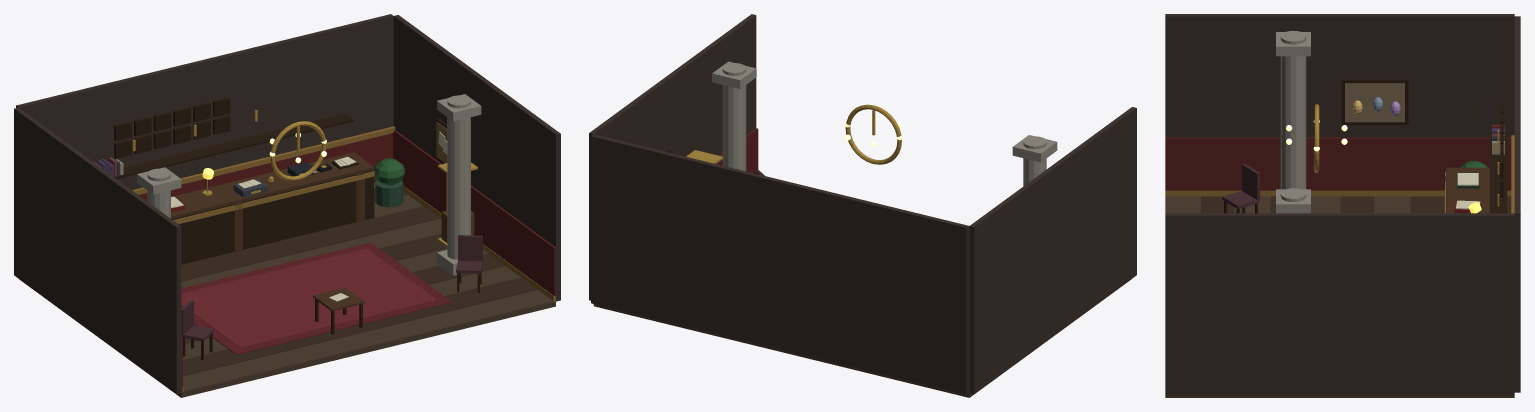
The model's file is lobby.glb.
The picture shows the model from 3 angles, left to right: view 1: azimuth 30°, elevation 25°; view 2: azimuth 150°, elevation 25°; view 3: azimuth 270°, elevation 25°; orthographic projection. The views are drawn at different scales.
Parts seen in each view (by area): view 1: WallBack, WallLeft, WallRight, RugInner, DeskFront, BandRight, Plank0, Plank7, Plank1, Rug, Column1, DeskTop (+20 smaller); view 2: WallBack, WallLeft, WallRight, Column1, Floor, ChandRing, Column0, ColumnCap0, ColumnCap1, BandRight; view 3: WallRight, WallLeft, BandLeft, Column0, WallBack, GalaPrint, SkirtLeft, DeskTop, Floor, DeskBackShelf, GalaFrame, Plank5 (+10 smaller).
Boxes of the visible parts, x1,y1,x2,y2 form: WallBack: [16, 14, 393, 189]; WallLeft: [14, 107, 181, 393]; WallRight: [393, 15, 560, 301]; RugInner: [181, 248, 436, 347]; DeskFront: [172, 170, 374, 264]; BandRight: [393, 130, 555, 296]; Plank0: [183, 290, 553, 391]; Plank7: [181, 206, 439, 281]; Plank1: [183, 278, 537, 376]; Rug: [181, 242, 451, 354]; Column1: [447, 95, 470, 259]; DeskTop: [171, 152, 373, 219]; WallBack: [591, 134, 969, 394]; WallLeft: [969, 107, 1136, 393]; WallRight: [589, 14, 756, 300]; Column1: [722, 63, 746, 171]; Floor: [593, 279, 1131, 397]; ChandRing: [845, 104, 901, 164]; Column0: [1023, 136, 1046, 186]; ColumnCap0: [1012, 135, 1057, 162]; ColumnCap1: [712, 61, 756, 88]; BandRight: [716, 128, 758, 173]; WallRight: [1165, 213, 1514, 395]; WallLeft: [1165, 14, 1514, 137]; BandLeft: [1165, 137, 1511, 190]; Column0: [1280, 31, 1306, 189]; WallBack: [1514, 16, 1520, 392]; GalaPrint: [1345, 83, 1404, 122]; SkirtLeft: [1165, 190, 1511, 196]; DeskTop: [1446, 167, 1489, 213]; Floor: [1165, 197, 1514, 397]; DeskBackShelf: [1489, 132, 1507, 213]; GalaFrame: [1341, 78, 1408, 124]; Plank5: [1340, 196, 1374, 213].
Bounding box in the file's own units: 8.2 × 3.65 × 6.1.
